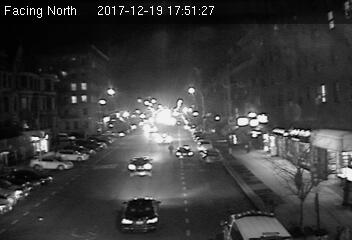car: (119, 197, 163, 231), (127, 156, 153, 176), (175, 146, 194, 159), (156, 134, 173, 144)
police: (218, 209, 287, 240)
